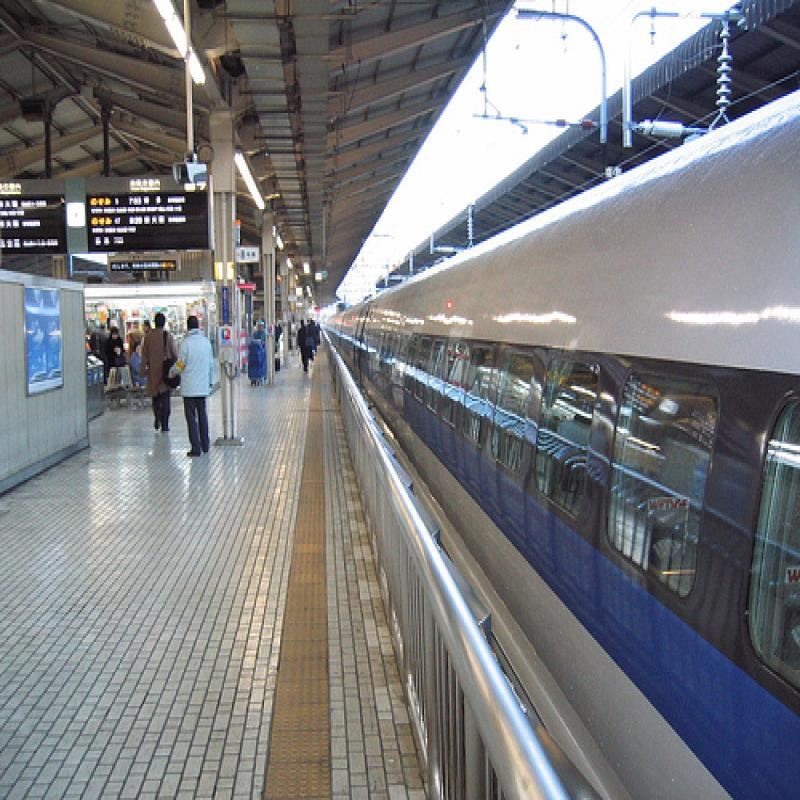train: (320, 84, 800, 799)
